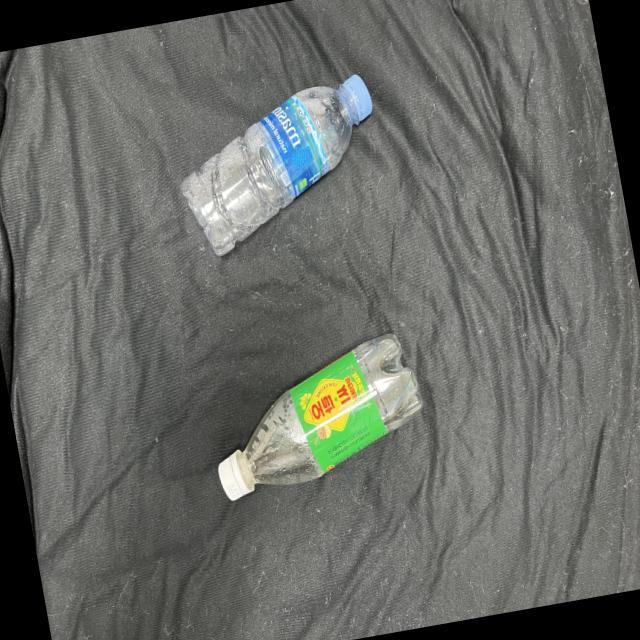good: (197, 318, 443, 538), (161, 54, 394, 276)
